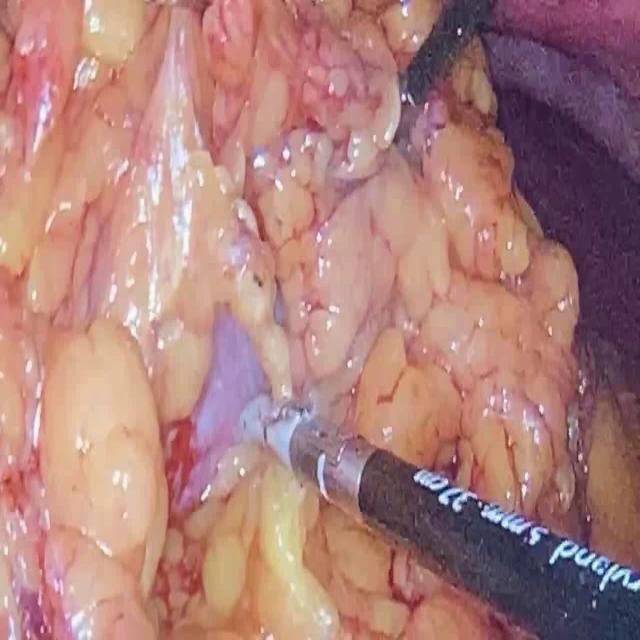surgical-tool: (264, 404, 640, 639), (398, 0, 498, 110)
